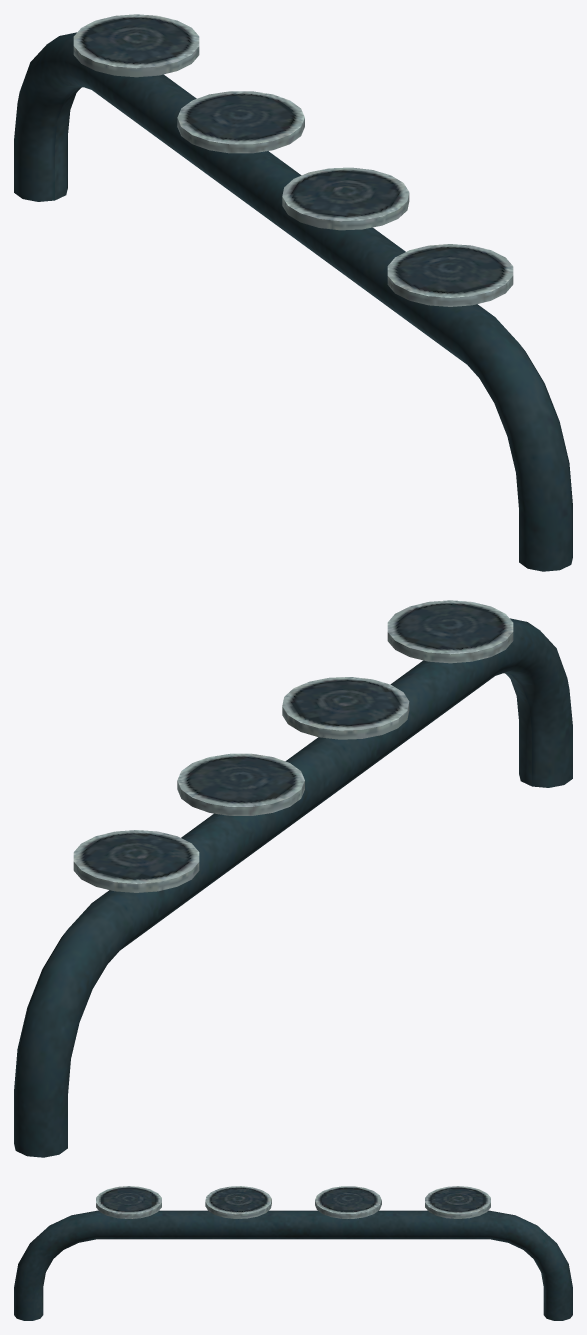
The model's file is sm22_037_airdiffuser01a.fbx.
3 renders of one model, top to bottom at view 1: azimuth 30°, elevation 25°; view 2: azimuth 150°, elevation 25°; view 3: azimuth 270°, elevation 25°, orthographic. The views are drawn at different scales.
Visible parts, largest first — view 1: LOD_1_Group_0_Sub_1__sm22_037_AirDiffuser01A_A_Mat; view 2: LOD_1_Group_0_Sub_1__sm22_037_AirDiffuser01A_A_Mat; view 3: LOD_1_Group_0_Sub_1__sm22_037_AirDiffuser01A_A_Mat.
Boxes of the visible parts, box(x1,y1,x2,y2) form: LOD_1_Group_0_Sub_1__sm22_037_AirDiffuser01A_A_Mat: box(14, 14, 572, 571); LOD_1_Group_0_Sub_1__sm22_037_AirDiffuser01A_A_Mat: box(14, 600, 572, 1157); LOD_1_Group_0_Sub_1__sm22_037_AirDiffuser01A_A_Mat: box(14, 1186, 572, 1320).
Bounding box in the file's own units: 0.2624 × 0.506 × 2.19.
